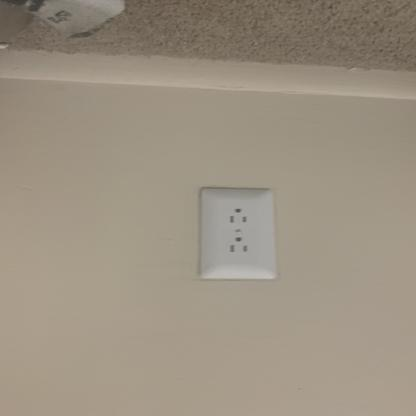OUTLET: (200, 188, 274, 278)
